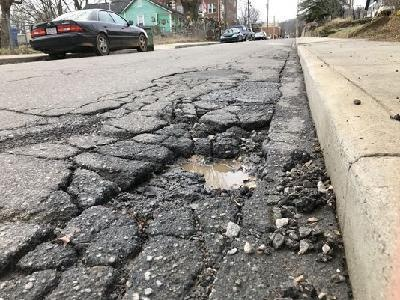pothole: (93, 116, 272, 213)
